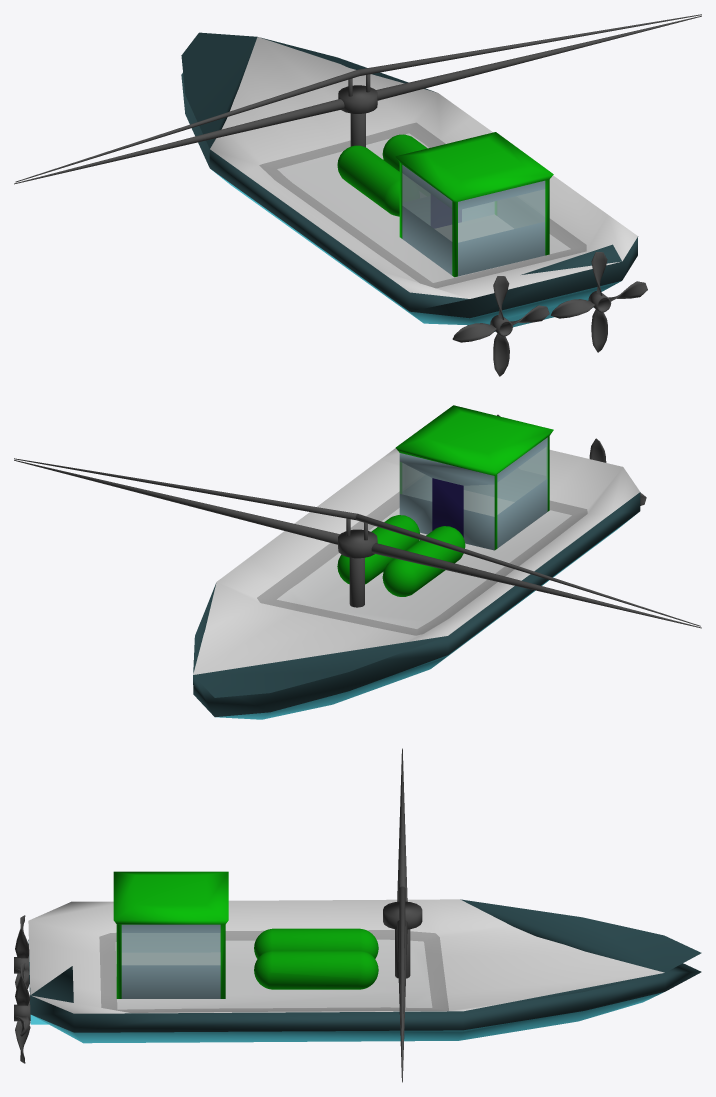
Rendered from EnviromentDisperserShip.fbx.
3 views of the same model, one above another, from view 1: azimuth 30°, elevation 25°; view 2: azimuth 150°, elevation 25°; view 3: azimuth 270°, elevation 25° (orthographic).
Visible parts, largest first — view 1: polySurface45, polySurface46; view 2: polySurface45, polySurface46; view 3: polySurface45, polySurface46.
Part boxes in pixels (x1=…): polySurface45: x1=14, y1=14, x2=701, y2=376; polySurface46: x1=337, y1=134, x2=427, y2=216; polySurface45: x1=14, y1=405, x2=701, y2=719; polySurface46: x1=337, y1=515, x2=465, y2=596; polySurface45: x1=14, y1=748, x2=701, y2=1082; polySurface46: x1=254, y1=928, x2=378, y2=989.
Bounding box in the file's own units: 7.94 × 1.69 × 6.95.
